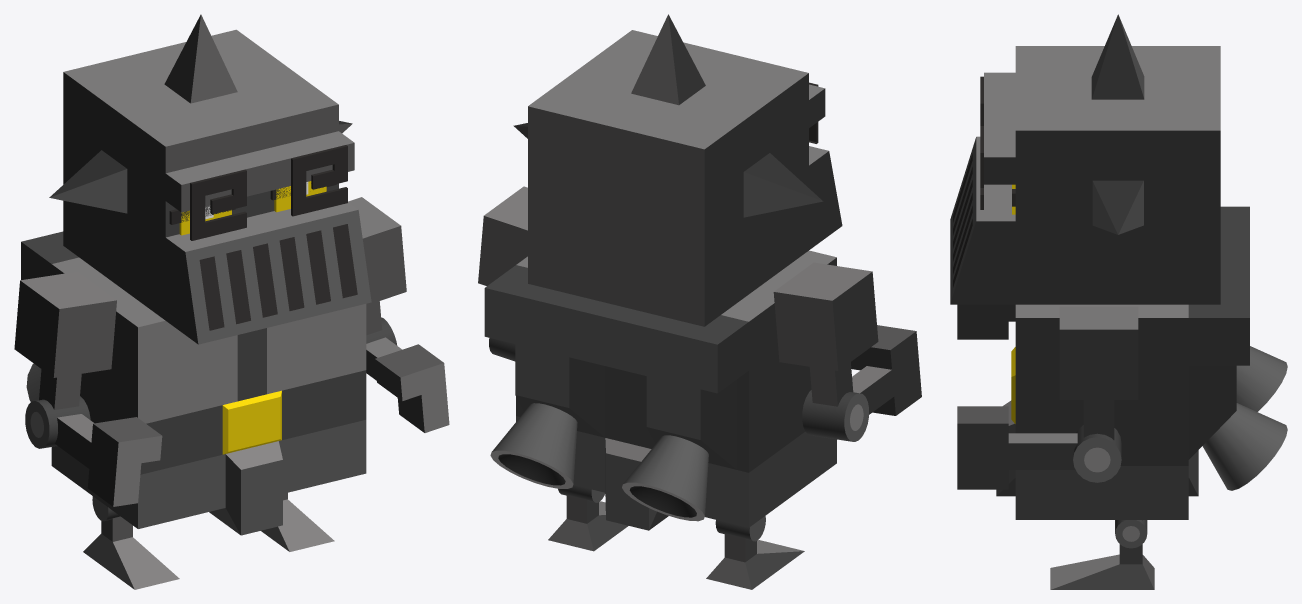
3 views of the same model, side by side, from view 1: azimuth 30°, elevation 25°; view 2: azimuth 150°, elevation 25°; view 3: azimuth 270°, elevation 25° (orthographic). The views are drawn at different scales.
Parts seen in each view (by area): view 1: Ch_205_Head, Ch_205, Ch_205_Arm_L, Ch_205_Arm_R, Ch_205_Leg_L, Ch_205_Eye_03_R, Ch_205_Eye_03_L, Ch_205_Leg_R, Ch_205_Eye_01; view 2: Ch_205_Head, Ch_205, Ch_205_Arm_L, Ch_205_Arm_R, Ch_205_Leg_L, Ch_205_Leg_R; view 3: Ch_205_Head, Ch_205, Ch_205_Arm_R, Ch_205_Leg_R, Ch_205_Arm_L.
Boxes of the visible parts, x1,y1,x2,y2 form: Ch_205_Head: [49, 14, 371, 344]; Ch_205: [21, 231, 366, 535]; Ch_205_Arm_L: [14, 271, 162, 506]; Ch_205_Arm_R: [348, 197, 449, 432]; Ch_205_Leg_L: [83, 496, 179, 589]; Ch_205_Eye_03_R: [291, 145, 347, 216]; Ch_205_Eye_03_L: [190, 169, 246, 240]; Ch_205_Leg_R: [261, 492, 334, 551]; Ch_205_Eye_01: [179, 181, 326, 235]; Ch_205_Head: [513, 14, 842, 326]; Ch_205: [484, 250, 836, 530]; Ch_205_Arm_L: [773, 262, 921, 441]; Ch_205_Arm_R: [478, 186, 527, 361]; Ch_205_Leg_L: [706, 516, 804, 589]; Ch_205_Leg_R: [548, 485, 628, 551]; Ch_205_Head: [950, 14, 1220, 304]; Ch_205: [996, 206, 1287, 519]; Ch_205_Arm_R: [957, 306, 1138, 489]; Ch_205_Leg_R: [1050, 520, 1154, 589]; Ch_205_Arm_L: [957, 304, 1015, 339].
Size of the model in its own units: 8.35 by 11.91 by 6.91.
